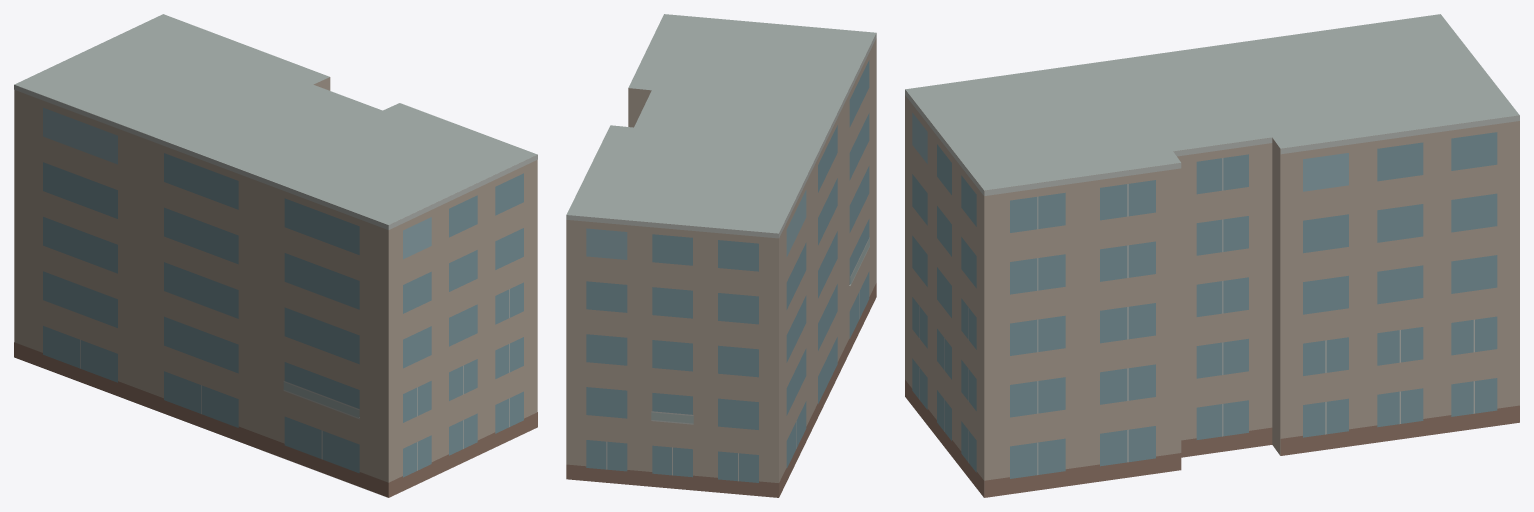
Rendered from survey-upis-32602725.glb.
The picture shows the model from 3 angles, left to right: view 1: azimuth 30°, elevation 25°; view 2: azimuth 150°, elevation 25°; view 3: azimuth 270°, elevation 25°; orthographic projection. The views are drawn at different scales.
Visible parts, largest first — view 1: survey-upis-32602725.tmp; view 2: survey-upis-32602725.tmp; view 3: survey-upis-32602725.tmp.
Part boxes in pixels (x1=…): survey-upis-32602725.tmp: x1=14, y1=14, x2=537, y2=497; survey-upis-32602725.tmp: x1=566, y1=14, x2=876, y2=497; survey-upis-32602725.tmp: x1=905, y1=14, x2=1519, y2=497.
Bounding box in the file's own units: 16.4 × 13.3 × 24.12.
